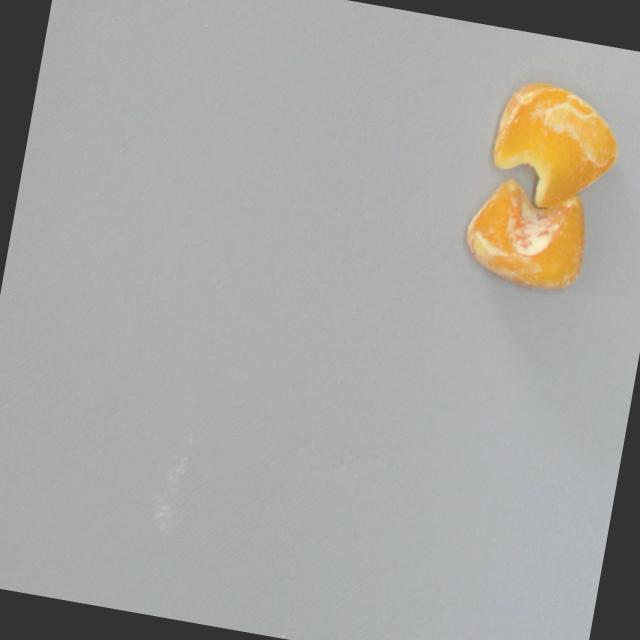pelicula: (485, 77, 628, 219), (458, 173, 599, 299)
